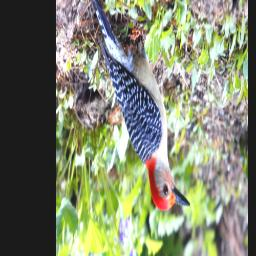Woodpecker: (91, 0, 190, 212)
